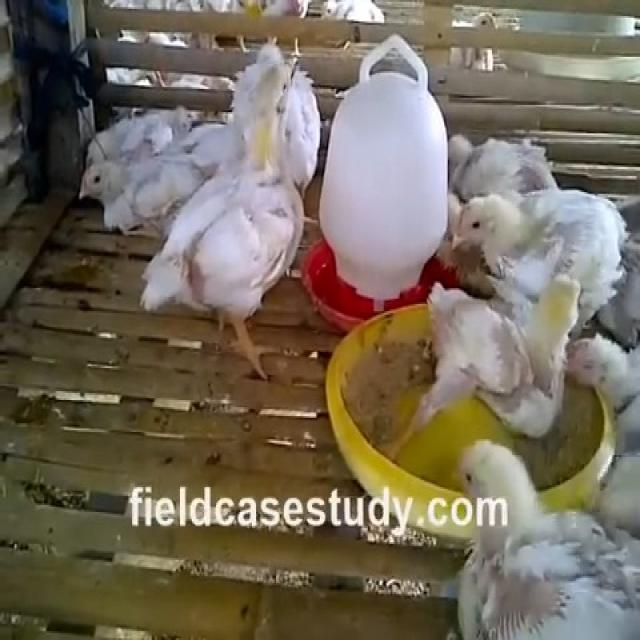bird flu: (141, 41, 311, 354), (421, 425, 640, 640), (399, 267, 589, 441), (445, 138, 627, 314), (77, 146, 232, 242)
